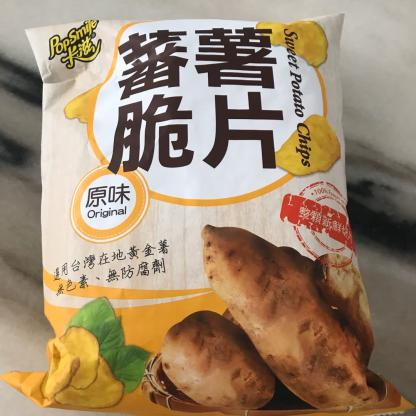potatochip: (26, 8, 410, 416)
